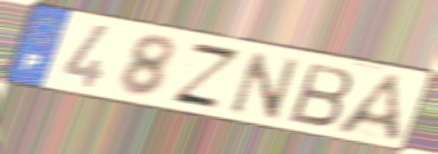4: (59, 21, 111, 92)
8: (117, 32, 177, 101)
A: (332, 71, 406, 146)
B: (286, 60, 357, 130)
N: (226, 48, 303, 122)
Z: (167, 39, 246, 113)
